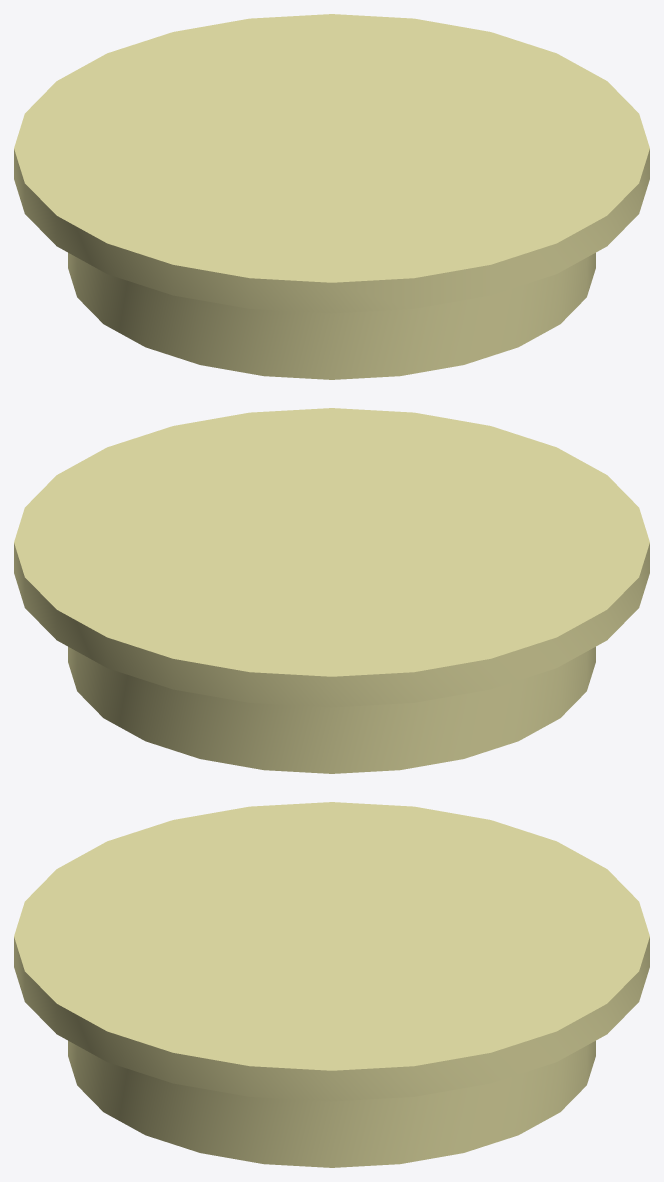
Rendered from original-55.obj.
3 views of the same model, one above another, from view 1: azimuth 30°, elevation 25°; view 2: azimuth 150°, elevation 25°; view 3: azimuth 270°, elevation 25° (orthographic).
Visible parts, largest first — view 1: mesh70/mesh70-geometry#mesh70-geometry; view 2: mesh70/mesh70-geometry#mesh70-geometry; view 3: mesh70/mesh70-geometry#mesh70-geometry.
Part boxes in pixels (x1,y1,x2,y2): mesh70/mesh70-geometry#mesh70-geometry: (14,14,649,379); mesh70/mesh70-geometry#mesh70-geometry: (14,408,649,773); mesh70/mesh70-geometry#mesh70-geometry: (14,802,649,1167).
Size of the model in its own units: 0.204 by 0.0616 by 0.204.
